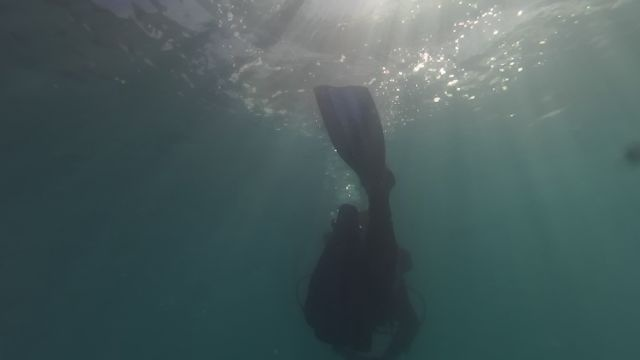Diver: (255, 73, 456, 359)
